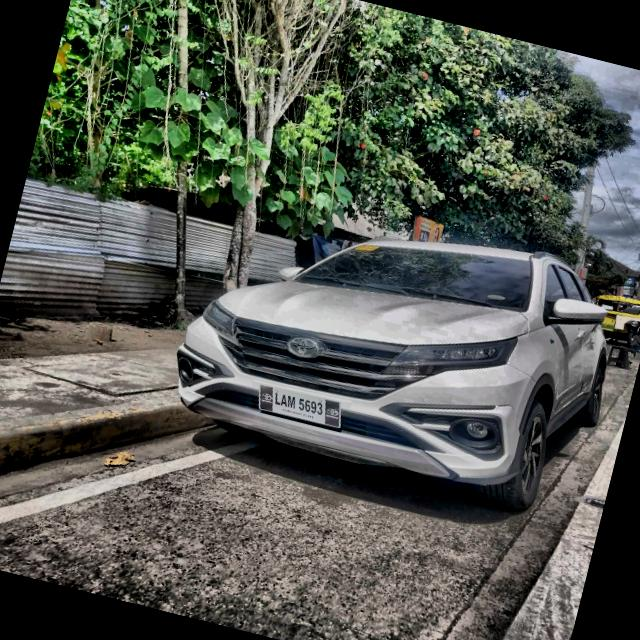license-plate: (253, 384, 346, 428)
